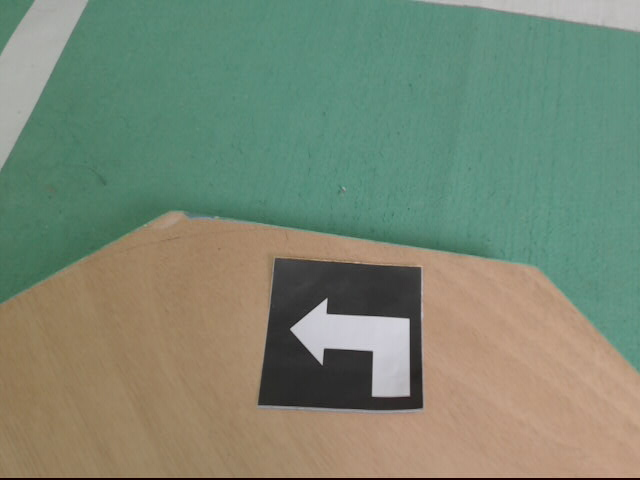left: (256, 254, 428, 414)
